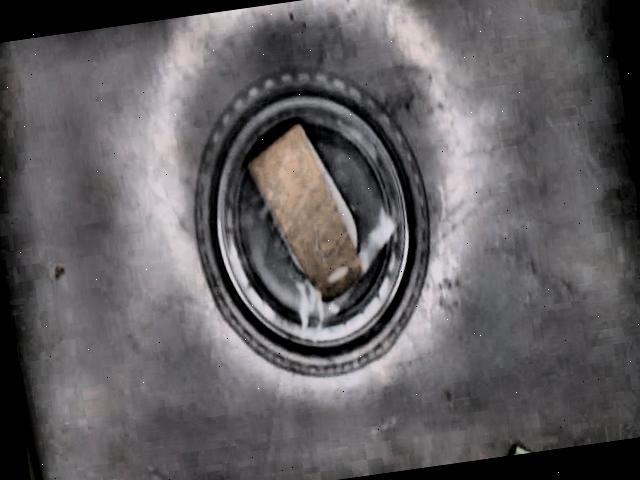Paper: (245, 124, 363, 305)
Plastic: (193, 68, 434, 373)
